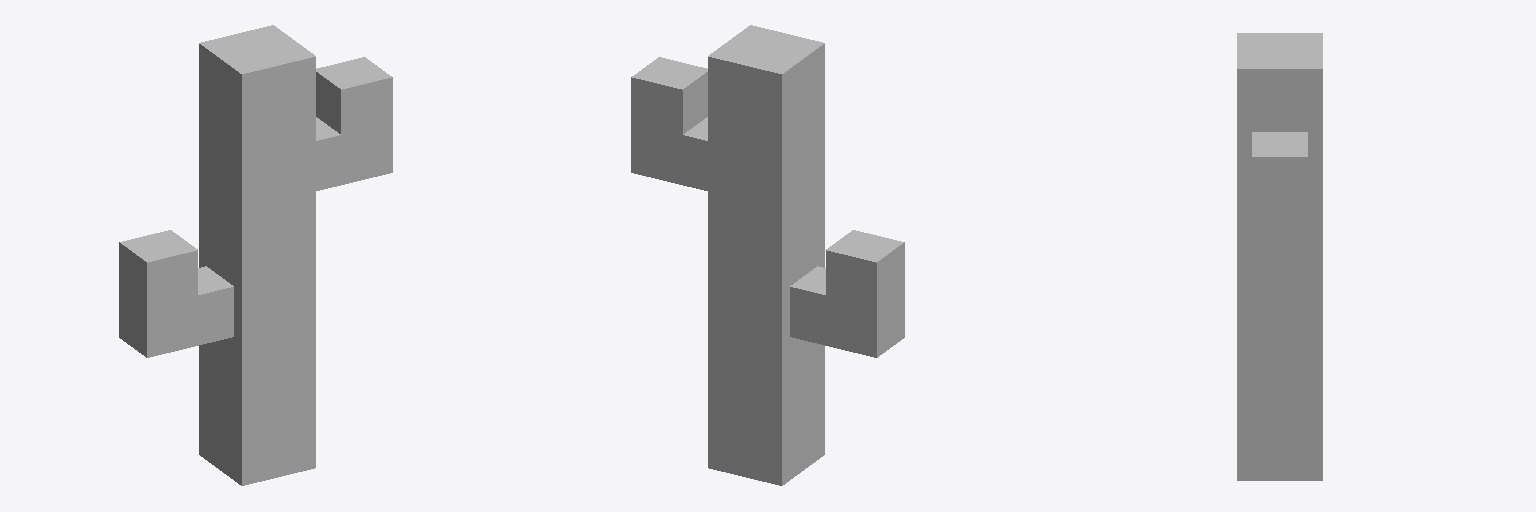
File: cactus.obj
3 views of the same model, side by side, from view 1: azimuth 30°, elevation 25°; view 2: azimuth 150°, elevation 25°; view 3: azimuth 270°, elevation 25° (orthographic).
Parts seen in each view (by area): view 1: Cube; view 2: Cube; view 3: Cube.
Boxes of the visible parts, x1=… form: Cube: x1=119, y1=25, x2=392, y2=485; Cube: x1=631, y1=25, x2=904, y2=485; Cube: x1=1237, y1=33, x2=1322, y2=480.
Size of the model in its own units: 1.25 by 2 by 0.3788.